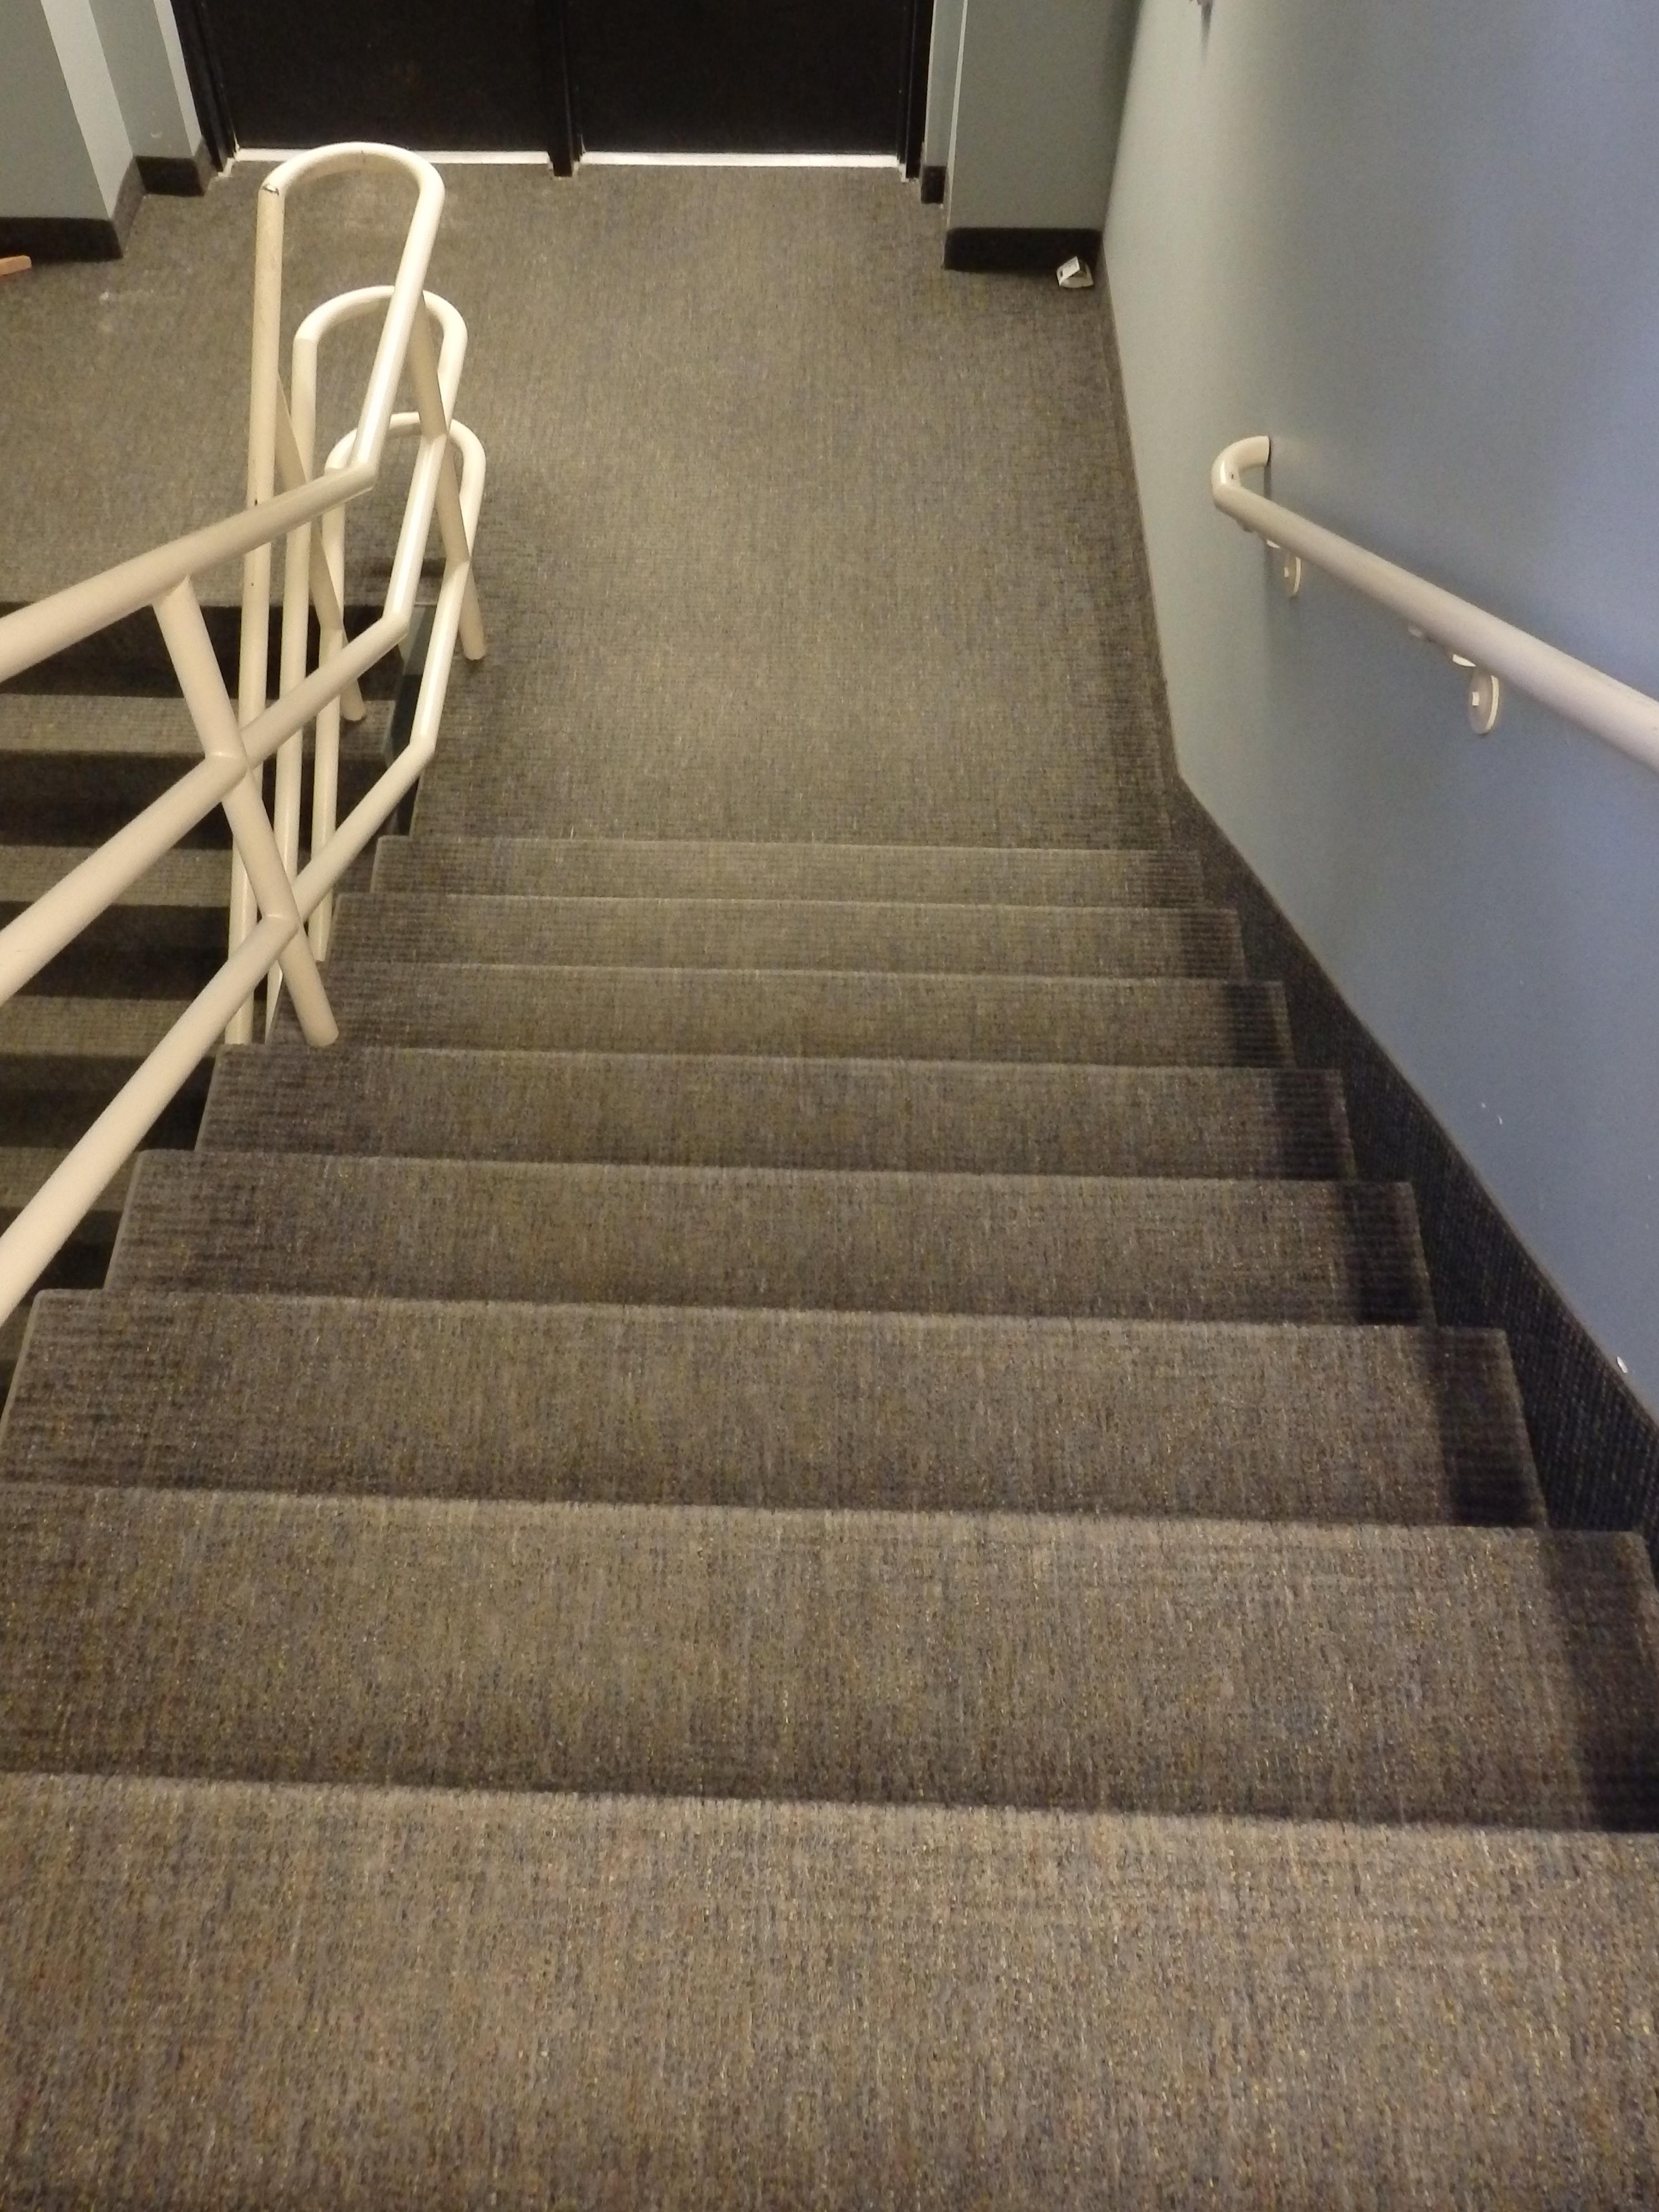stairs_down: (134, 783, 1485, 1898)
